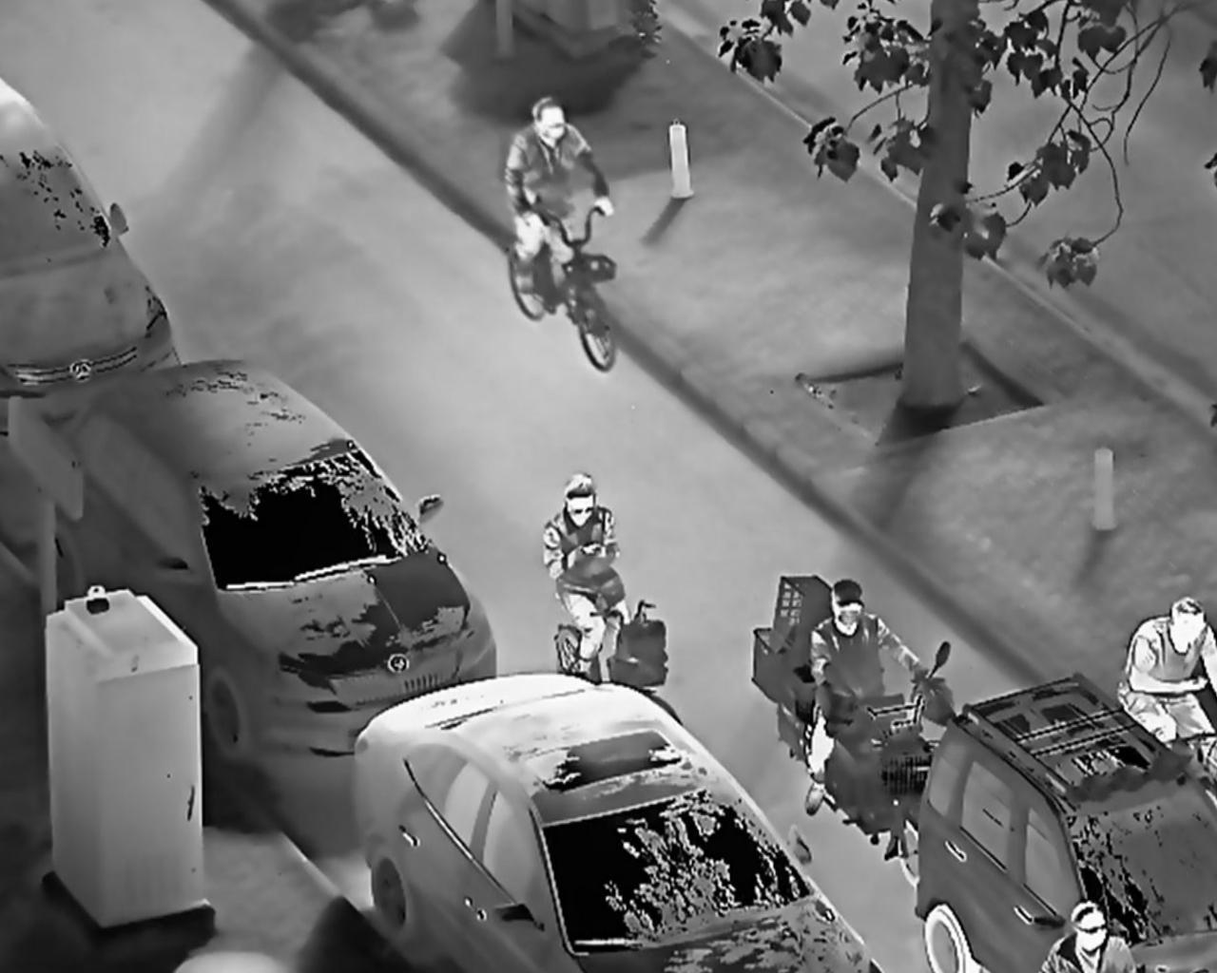person: (799, 578, 927, 817), (503, 93, 624, 281), (539, 465, 639, 684), (1121, 591, 1217, 767)
